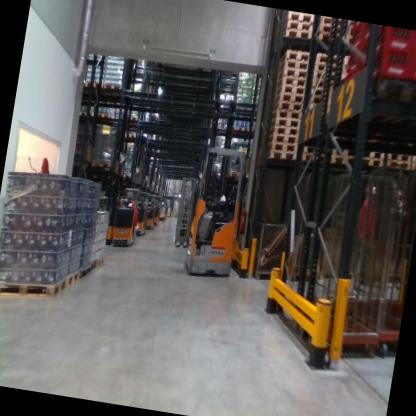forklift: (174, 62, 262, 288), (101, 107, 157, 249), (118, 131, 160, 237), (140, 186, 158, 232), (147, 185, 165, 227), (154, 196, 170, 231)
pallet: (0, 261, 71, 313), (301, 152, 360, 170), (270, 46, 311, 71), (261, 123, 299, 146), (276, 17, 313, 40), (268, 99, 304, 122), (268, 91, 303, 114), (277, 28, 311, 51), (266, 84, 305, 104), (273, 66, 309, 87), (274, 57, 308, 78), (279, 10, 313, 30), (261, 139, 298, 157), (268, 108, 303, 127), (271, 74, 307, 92), (266, 116, 300, 134), (261, 132, 299, 148), (263, 148, 296, 165), (353, 156, 385, 173), (333, 141, 362, 159), (63, 263, 81, 290), (384, 158, 416, 173), (317, 23, 348, 38), (314, 51, 343, 67), (303, 141, 332, 157), (103, 76, 126, 95), (316, 30, 345, 44), (73, 263, 91, 282), (312, 62, 338, 75), (319, 16, 349, 27), (312, 71, 337, 84), (90, 158, 113, 172), (302, 103, 325, 117), (83, 77, 104, 91), (309, 86, 332, 98), (360, 148, 385, 159), (386, 151, 412, 161), (94, 252, 108, 269), (311, 79, 334, 89), (86, 256, 98, 275), (308, 94, 326, 106), (96, 109, 114, 120), (342, 35, 357, 48), (78, 109, 93, 121), (340, 72, 352, 86), (347, 25, 359, 38), (409, 148, 416, 165), (343, 56, 353, 64), (409, 164, 416, 175), (343, 63, 351, 72)
stillage: (242, 213, 296, 284)
